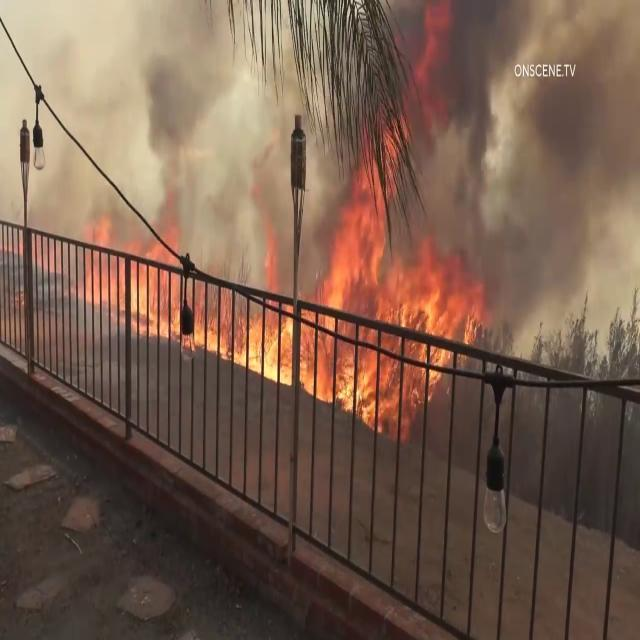Fire: (214, 182, 482, 420)
Smoke: (43, 0, 329, 274), (404, 0, 640, 288)
